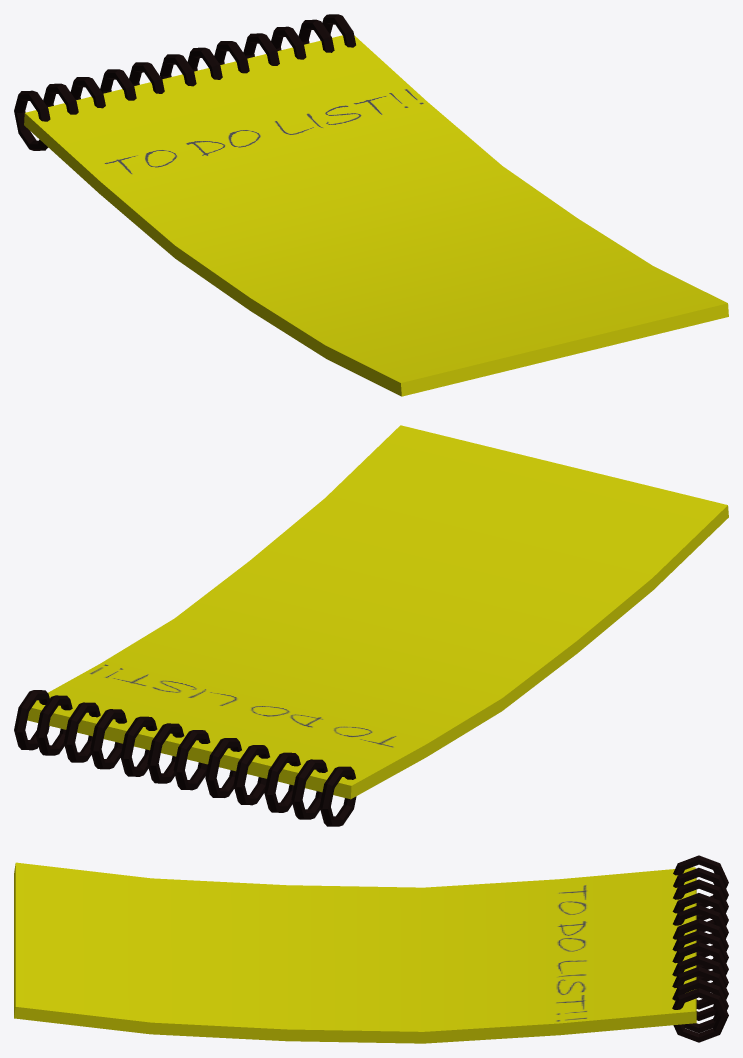
Rendered from Notepad.fbx.
3 renders of one model, top to bottom at view 1: azimuth 30°, elevation 25°; view 2: azimuth 150°, elevation 25°; view 3: azimuth 270°, elevation 25°, orthographic. The views are drawn at different scales.
Visible parts, largest first — view 1: pPlane1, pTorus13; view 2: pPlane1, pTorus13; view 3: pPlane1, pTorus13.
Boxes of the visible parts, x1=… form: pPlane1: x1=24, y1=35, x2=728, y2=396; pTorus13: x1=14, y1=14, x2=355, y2=150; pPlane1: x1=27, y1=425, x2=728, y2=799; pTorus13: x1=14, y1=690, x2=356, y2=826; pPlane1: x1=14, y1=862, x2=696, y2=1043; pTorus13: x1=672, y1=855, x2=728, y2=1042.
Size of the model in its own units: 4 by 0.727 by 8.38.
